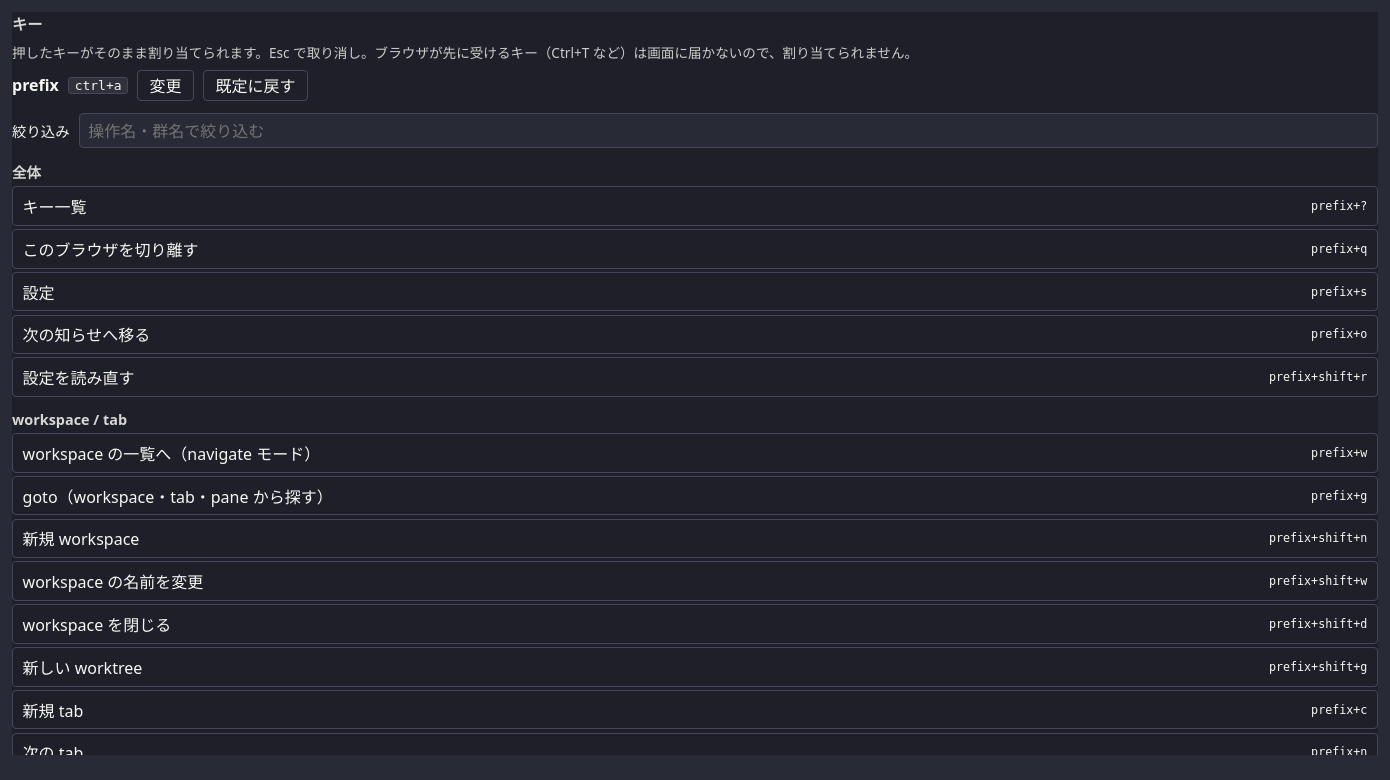
Test: KeySettings — prefix の既定へ戻す（AC9） › ［既定に戻す］は prefix を変えているときだけ出る。押すと ctrl+b へ戻り、フォーカスは［変更］へ
Click the button "既定に戻す" at (256, 85), box [203,70,308,101]
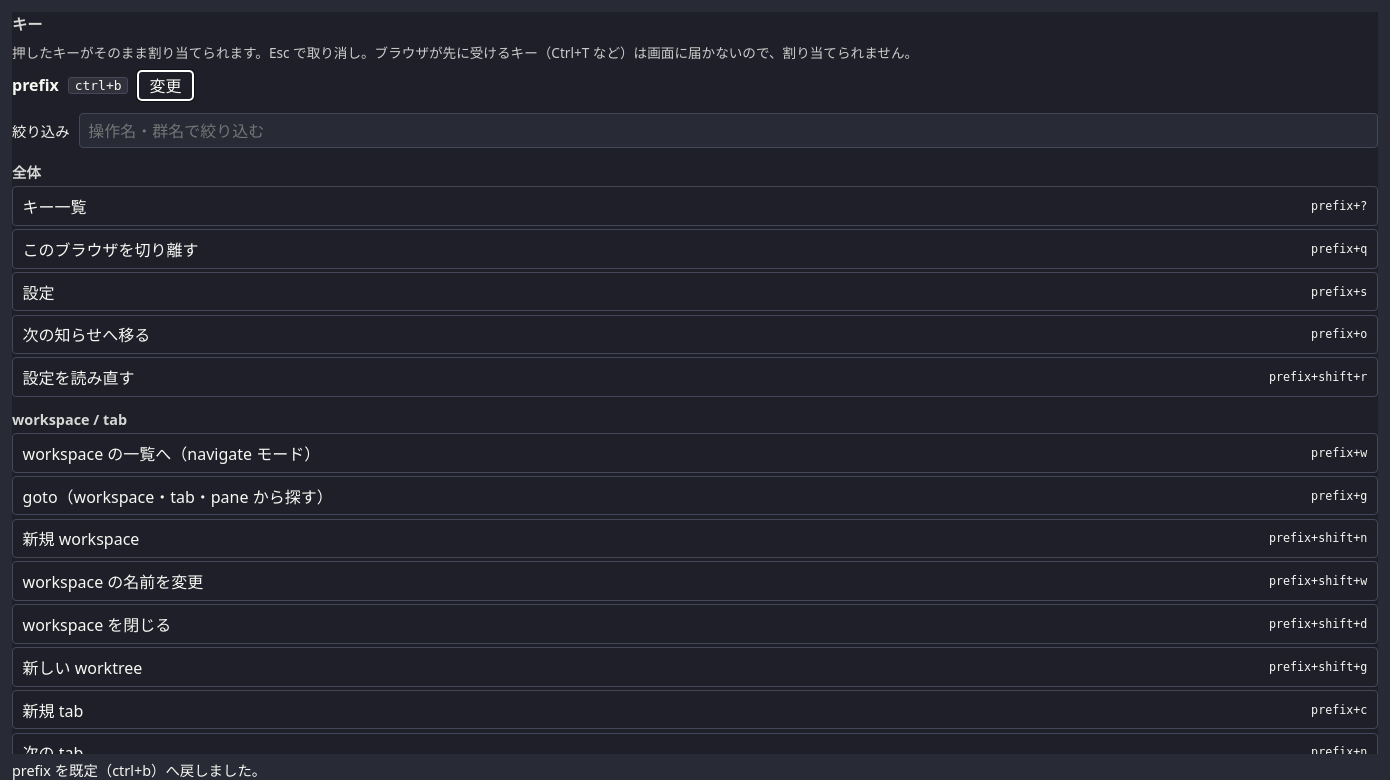
expect the text "ctrl+b" is shown: met, box [68,77,128,94]
expect the message "prefix を既定（ctrl+b）へ戻しました。" is shown: met, box [12,761,266,779]
